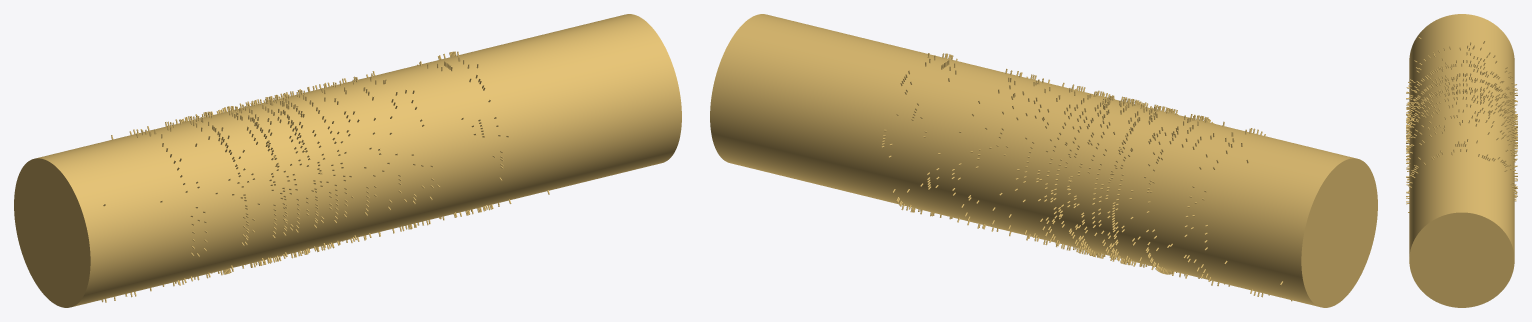
File: Cylinder-2-Bizet-Verdi.glb
The picture shows the model from 3 angles, left to right: view 1: azimuth 30°, elevation 25°; view 2: azimuth 150°, elevation 25°; view 3: azimuth 270°, elevation 25°; orthographic projection. The views are drawn at different scales.
Visible parts, largest first — view 1: cylinder_body; view 2: cylinder_body; view 3: cylinder_body.
Part boxes in pixels (x1,y1,x2,y2): cylinder_body: [14, 14, 681, 307]; cylinder_body: [710, 14, 1377, 307]; cylinder_body: [1409, 14, 1514, 307].
Size of the model in its own units: 0.214 by 0.051 by 0.051.
